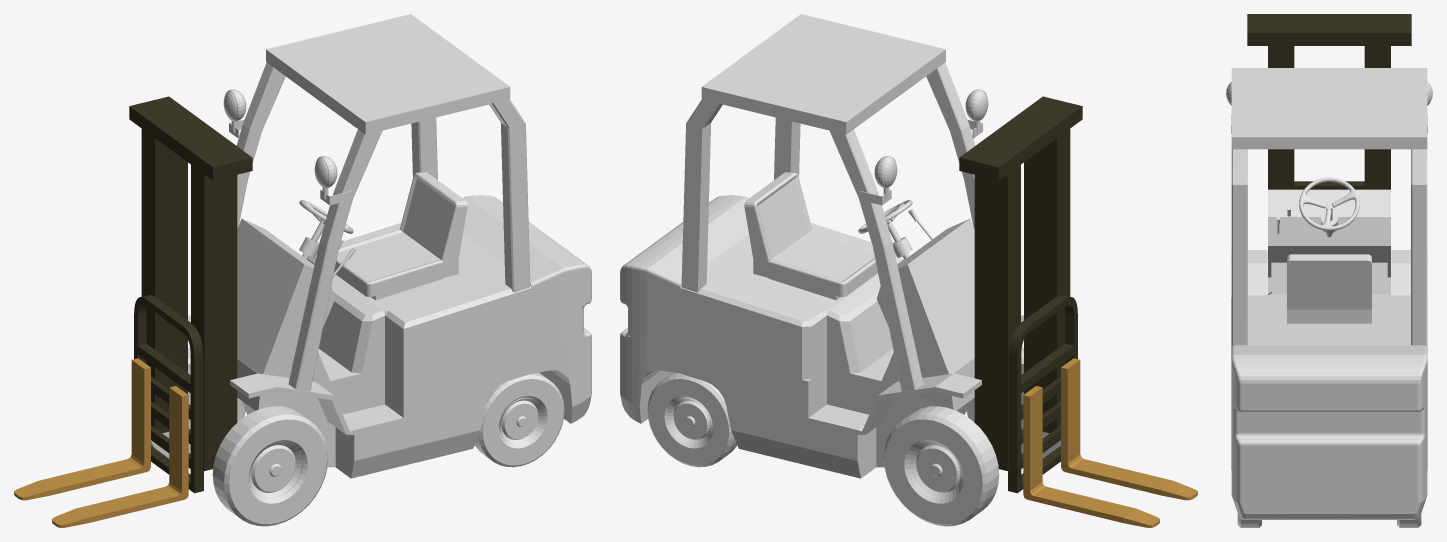
File: forklift.dae
3 renders of one model, left to right at view 1: azimuth 30°, elevation 25°; view 2: azimuth 150°, elevation 25°; view 3: azimuth 270°, elevation 25°, orthographic.
Visible parts, largest first — view 1: Cube.9, Roof, Cube_1, Cube.3, Panel, Tube, Cube.4, Tube_1, Cube.6, Cylinder_1, Cylinder_2, Sphere; view 2: Cube.9, Roof, Cube_1, Cube.3, Panel, Tube, Cube.4, Tube_1, Cube.6, Cylinder_1, Cylinder_2, Sphere; view 3: Cube_1, Roof, Cube.9, Panel, Cube.3, Cube.6, Cube.4, Tube_2, Tube_1.
Boxes of the visible parts, x1=… form: Cube.9: x1=14, y1=96, x2=252, y2=527; Roof: x1=236, y1=14, x2=530, y2=391; Cube_1: x1=188, y1=195, x2=591, y2=478; Cube.3: x1=307, y1=223, x2=531, y2=381; Panel: x1=237, y1=218, x2=334, y2=383; Tube: x1=151, y1=347, x2=328, y2=526; Cube.4: x1=334, y1=229, x2=458, y2=297; Tube_1: x1=474, y1=372, x2=564, y2=467; Cube.6: x1=399, y1=172, x2=467, y2=261; Cylinder_1: x1=188, y1=391, x2=302, y2=498; Cylinder_2: x1=499, y1=397, x2=544, y2=445; Sphere: x1=223, y1=89, x2=337, y2=188; Cube.9: x1=959, y1=96, x2=1197, y2=527; Roof: x1=681, y1=14, x2=975, y2=391; Cube_1: x1=620, y1=195, x2=1023, y2=478; Cube.3: x1=680, y1=223, x2=904, y2=379; Panel: x1=877, y1=218, x2=974, y2=383; Tube: x1=883, y1=347, x2=1060, y2=526; Cube.4: x1=753, y1=229, x2=877, y2=297; Tube_1: x1=647, y1=372, x2=737, y2=467; Cube.6: x1=744, y1=172, x2=812, y2=261; Cylinder_1: x1=909, y1=391, x2=1023, y2=498; Cylinder_2: x1=667, y1=397, x2=712, y2=445; Sphere: x1=874, y1=89, x2=988, y2=188; Cube_1: x1=1231, y1=250, x2=1427, y2=519; Roof: x1=1231, y1=68, x2=1427, y2=346; Cube.9: x1=1247, y1=14, x2=1411, y2=189; Panel: x1=1268, y1=189, x2=1390, y2=293; Cube.3: x1=1231, y1=290, x2=1427, y2=406; Cube.6: x1=1287, y1=254, x2=1371, y2=309; Cube.4: x1=1287, y1=309, x2=1371, y2=323; Tube_2: x1=1299, y1=177, x2=1359, y2=230; Tube_1: x1=1237, y1=514, x2=1421, y2=527.
Size of the model in its own units: 70.34 by 25.16 by 50.85.
